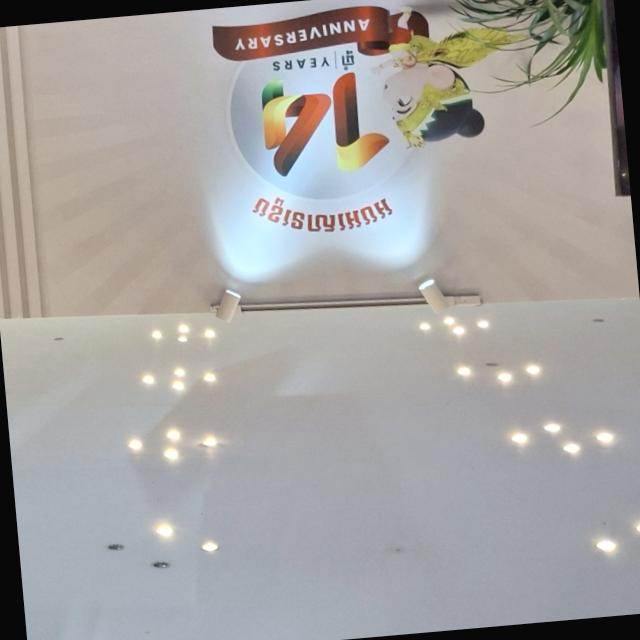Yolov11kh: (225, 170, 415, 260), (332, 45, 367, 76)
